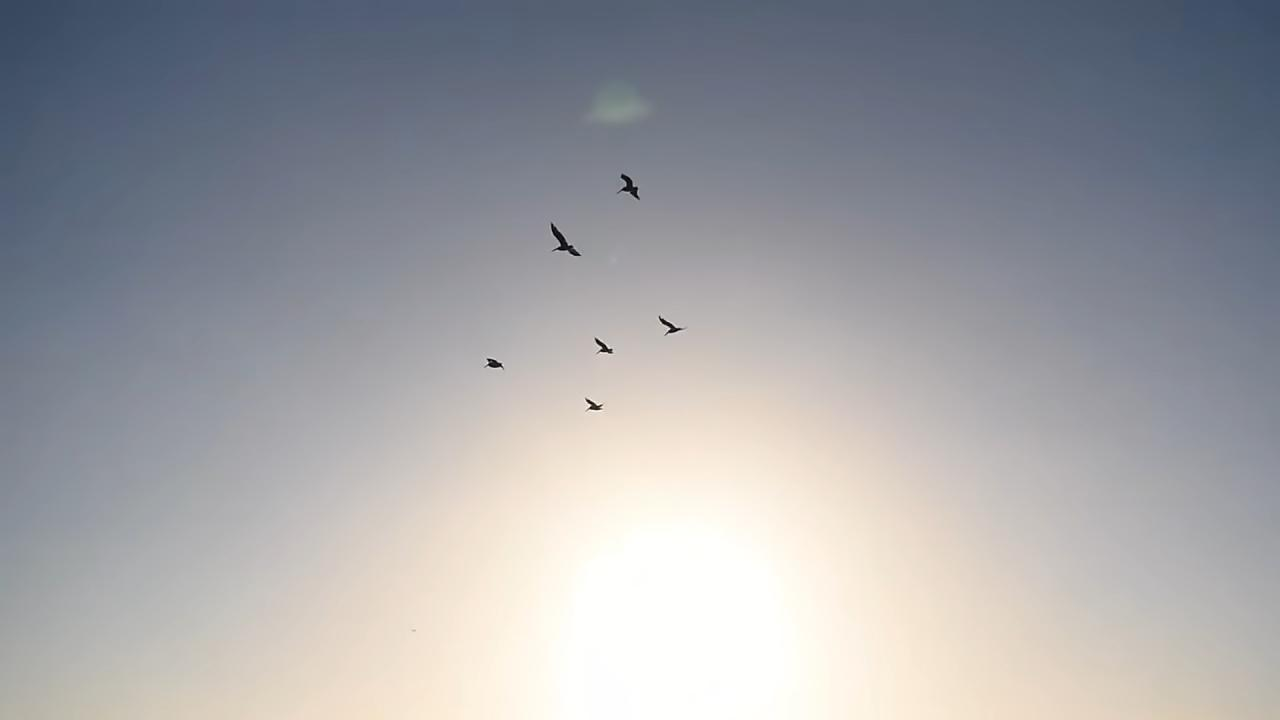Bird: (536, 217, 590, 265), (610, 167, 652, 208), (650, 308, 694, 346), (474, 348, 518, 380), (588, 332, 622, 365), (579, 390, 612, 421)
